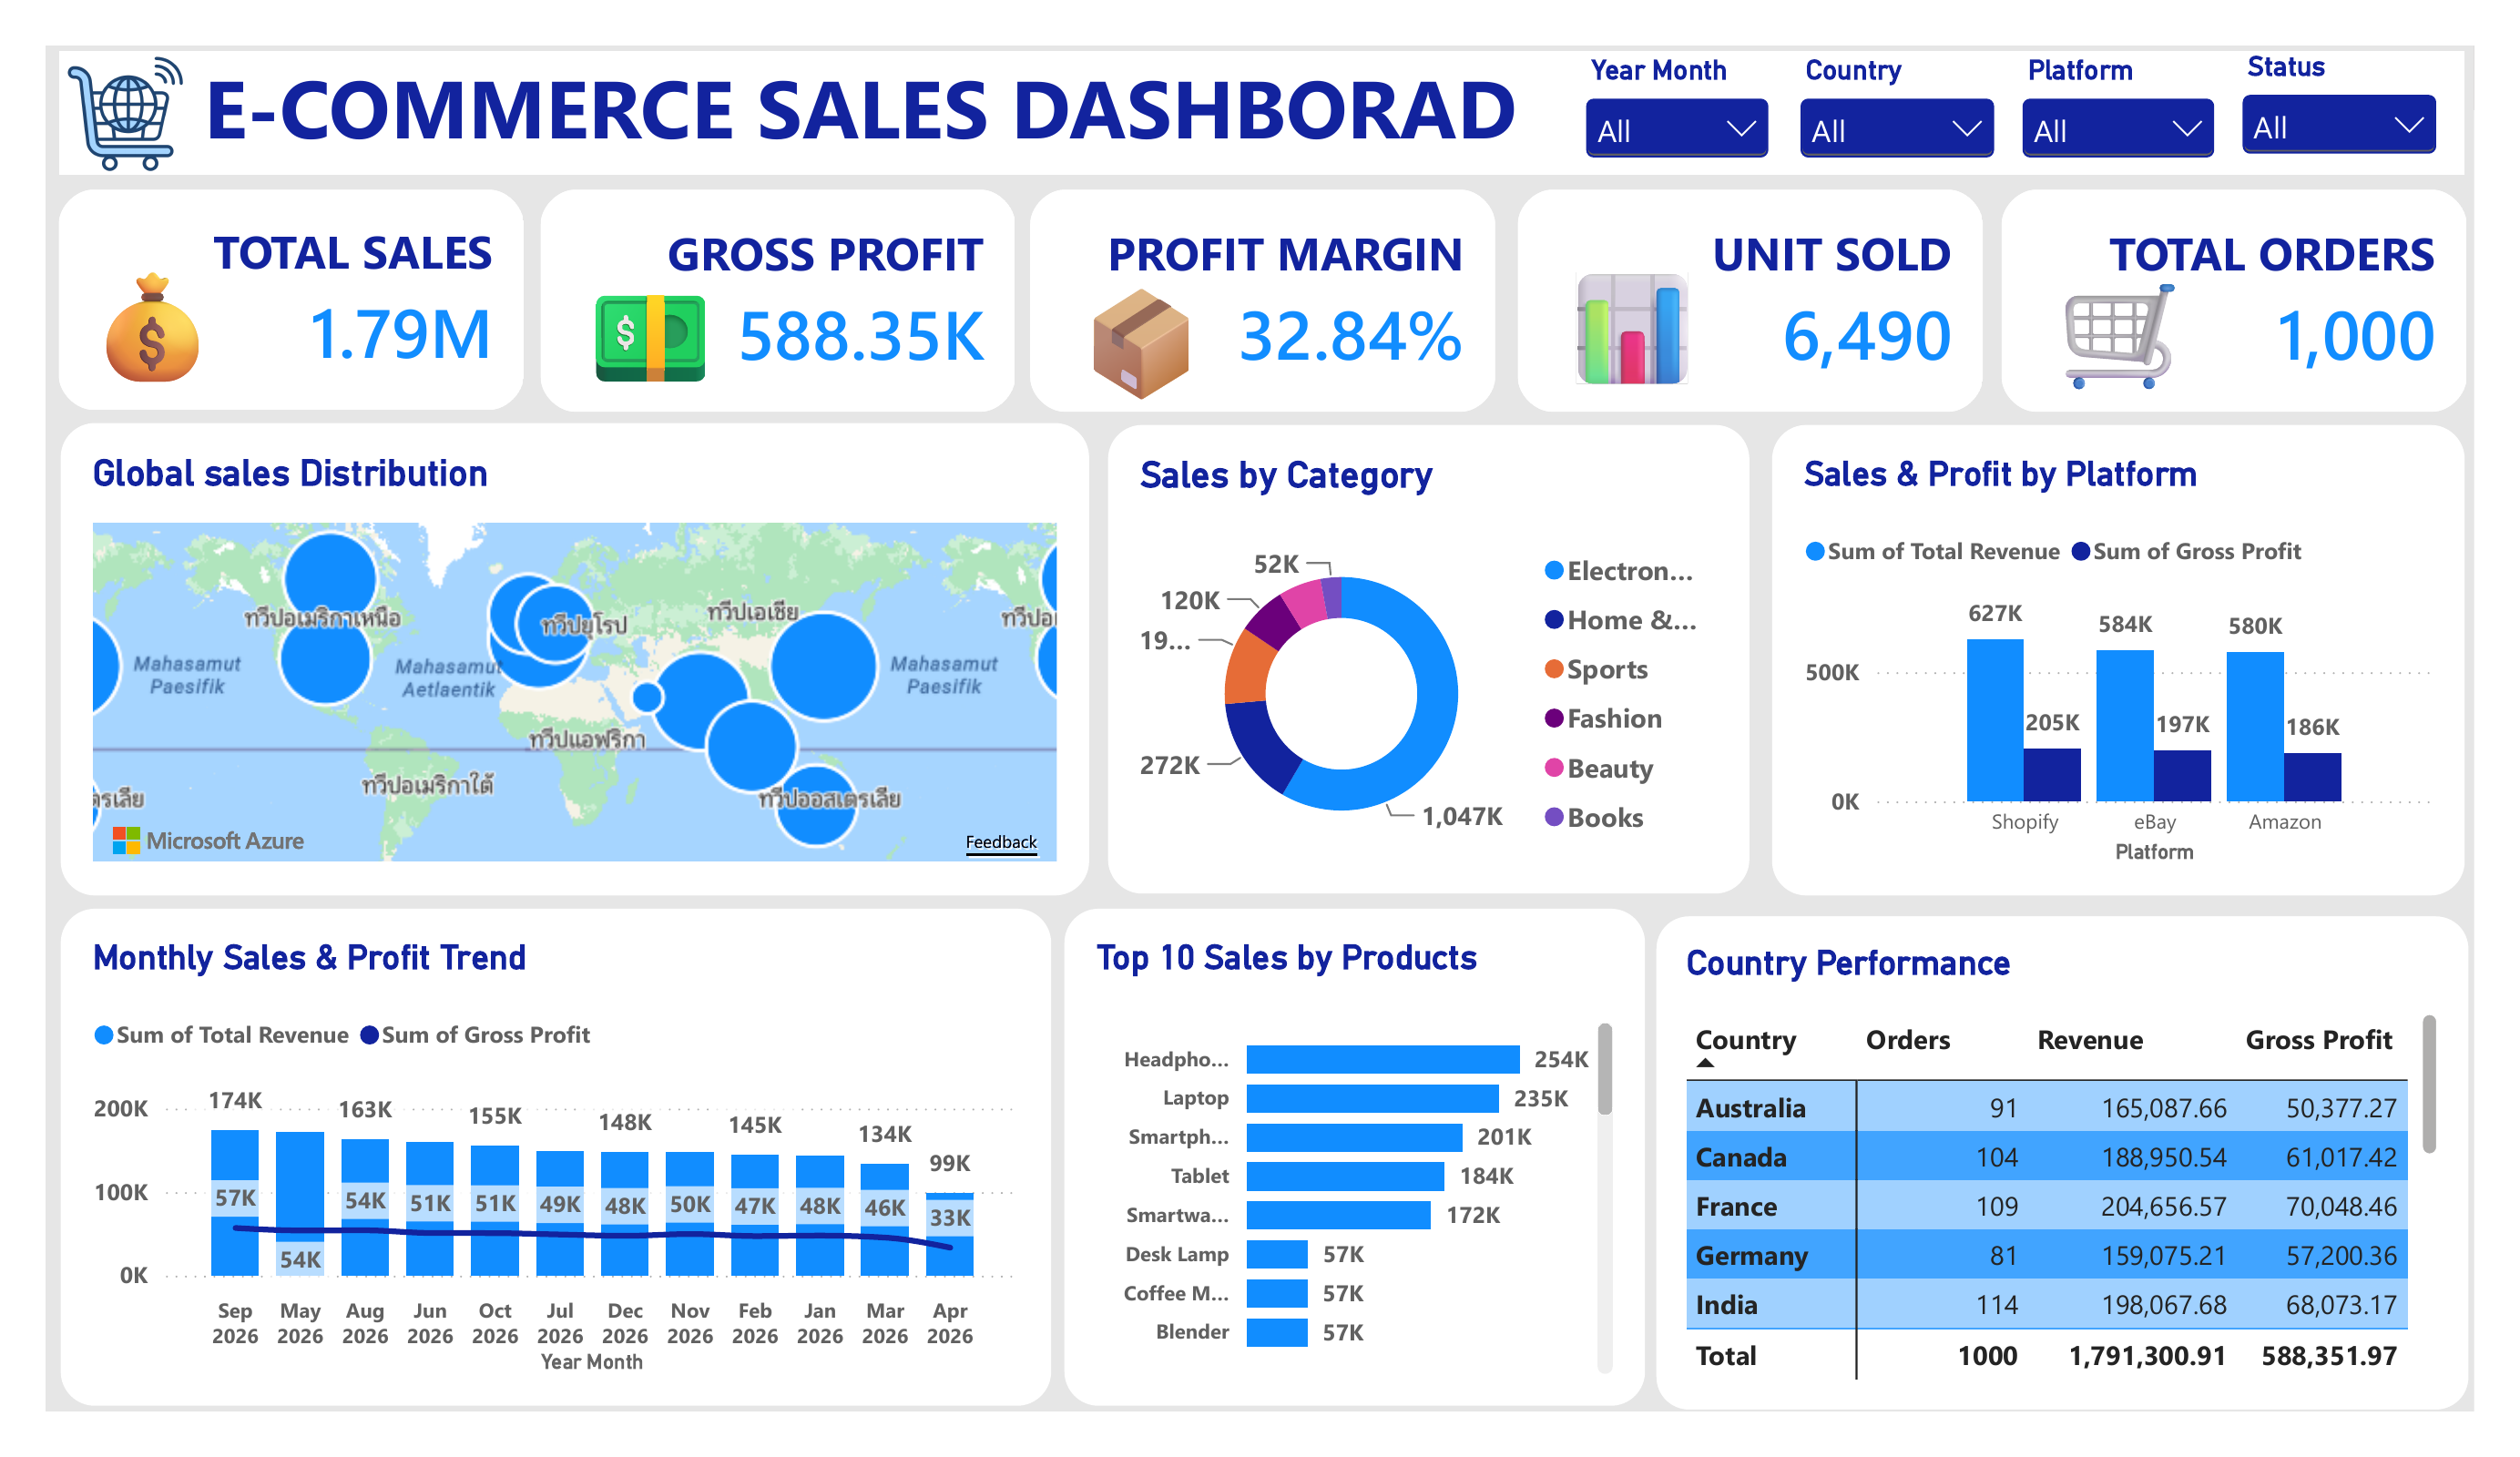

The dashboard page shown, as its layout file describes it:
{"tool":"powerbi","page":{"name":"Page 1","canvas":[1280,720],"ordinal":0},"visuals":[{"type":"textbox","box":[6.7,5,1268.3,65],"z":0},{"type":"image","box":[20,5,70,61.7],"z":1000},{"type":"cardVisual","fields":{"Data":["Ecom_Sales_Data.Total sales"]},"box":[7.5,76.3,245,116.7],"z":2000},{"type":"cardVisual","fields":{"Data":["Ecom_Sales_Data.Gross Profit KPI"]},"box":[260.8,76.3,250,117],"z":3000},{"type":"cardVisual","fields":{"Data":["Ecom_Sales_Data.Profit Margin %"]},"box":[519.1,76.3,245,117],"z":4000},{"type":"cardVisual","fields":{"Data":["Ecom_Sales_Data.Unit Sold Disply"]},"box":[775.8,76.3,245,117],"z":5000},{"type":"cardVisual","fields":{"Data":["Ecom_Sales_Data.Total Orders Disply"]},"box":[1030.8,76.3,245,117],"z":6000},{"type":"textbox","box":[0.8,106.3,110,106.7],"z":7000},{"type":"textbox","box":[252.5,106.3,133.3,118.3],"z":8000},{"type":"textbox","box":[499.1,114.7,158.3,103.3],"z":9000},{"type":"textbox","box":[763.3,106.7,146.7,131.7],"z":10000},{"type":"textbox","box":[1030.8,109.7,123.3,100],"z":11000},{"type":"azureMap","title":"Global sales Distribution","fields":{"Category":["Ecom_Sales_Data.Customer_Country"],"Size":["Sum(Ecom_Sales_Data.Total Revenue)"],"Value":["Sum(Ecom_Sales_Data.Total Revenue)"]},"box":[8.3,199.3,541.7,248.3],"z":12000},{"type":"donutChart","title":"Sales by Category","fields":{"Category":["Ecom_Sales_Data.Product_Category"],"Y":["Sum(Ecom_Sales_Data.Total Revenue)"]},"box":[560,200,338.3,246.7],"z":13000},{"type":"clusteredColumnChart","title":"Sales & Profit by Platform","fields":{"Category":["Ecom_Sales_Data.Platform"],"Y":["Sum(Ecom_Sales_Data.Total Revenue)","Sum(Ecom_Sales_Data.Gross Profit)"]},"box":[910,200,365,248],"z":14000},{"type":"lineStackedColumnComboChart","title":"Monthly Sales & Profit Trend","fields":{"Category":["Calender.Year Month"],"Y":["Sum(Ecom_Sales_Data.Total Revenue)"],"Y2":["Sum(Ecom_Sales_Data.Gross Profit)"]},"box":[8.3,455,521.7,261.7],"z":15000},{"type":"barChart","title":"Top 10 Sales by Products","fields":{"Category":["Ecom_Sales_Data.Product_Name"],"Y":["Sum(Ecom_Sales_Data.Total Revenue)"]},"box":[536.7,455,306.7,261.7],"z":16000},{"type":"pivotTable","title":"Country Performance","fields":{"Rows":["Ecom_Sales_Data.Customer_Country"],"Values":["Ecom_Sales_Data.Total Orders","Sum(Ecom_Sales_Data.Total Revenue)","Sum(Ecom_Sales_Data.Gross Profit)"]},"box":[848.3,458.3,430,261.7],"z":17000},{"type":"slicer","title":"Year Month","fields":{"Values":["Calender.Year Month"]},"box":[806.7,5,106.2,68.8],"z":18000},{"type":"slicer","title":"Year Month","fields":{"Values":["Ecom_Sales_Data.Customer_Country"]},"box":[920,5,111.7,68.3],"z":19000},{"type":"slicer","title":"Year Month","fields":{"Values":["Ecom_Sales_Data.Platform"]},"box":[1036.7,5,111.7,68.3],"z":20000},{"type":"slicer","title":"Year Month","fields":{"Values":["Ecom_Sales_Data.Order_Status"]},"box":[1153.3,3.3,111.7,68.3],"z":21000}]}

Visuals, with their boxes on the page's 1280x720 design canvas (x1, y1, x2, y2). These are canvas units, not pixel positions in the 2520x1457 screenshot, which may show the page scaled, cropped or inside an application window:
textbox: locate(7, 5, 1275, 70)
image: locate(20, 5, 90, 67)
cardVisual - Ecom_Sales_Data.Total sales: locate(8, 76, 252, 193)
cardVisual - Ecom_Sales_Data.Gross Profit KPI: locate(261, 76, 511, 193)
cardVisual - Ecom_Sales_Data.Profit Margin %: locate(519, 76, 764, 193)
cardVisual - Ecom_Sales_Data.Unit Sold Disply: locate(776, 76, 1021, 193)
cardVisual - Ecom_Sales_Data.Total Orders Disply: locate(1031, 76, 1276, 193)
textbox: locate(1, 106, 111, 213)
textbox: locate(252, 106, 386, 225)
textbox: locate(499, 115, 657, 218)
textbox: locate(763, 107, 910, 238)
textbox: locate(1031, 110, 1154, 210)
"Global sales Distribution" azureMap: locate(8, 199, 550, 448)
"Sales by Category" donutChart: locate(560, 200, 898, 447)
"Sales & Profit by Platform" clusteredColumnChart: locate(910, 200, 1275, 448)
"Monthly Sales & Profit Trend" lineStackedColumnComboChart: locate(8, 455, 530, 717)
"Top 10 Sales by Products" barChart: locate(537, 455, 843, 717)
"Country Performance" pivotTable: locate(848, 458, 1278, 720)
"Year Month" slicer: locate(807, 5, 913, 74)
"Year Month" slicer: locate(920, 5, 1032, 73)
"Year Month" slicer: locate(1037, 5, 1148, 73)
"Year Month" slicer: locate(1153, 3, 1265, 72)
